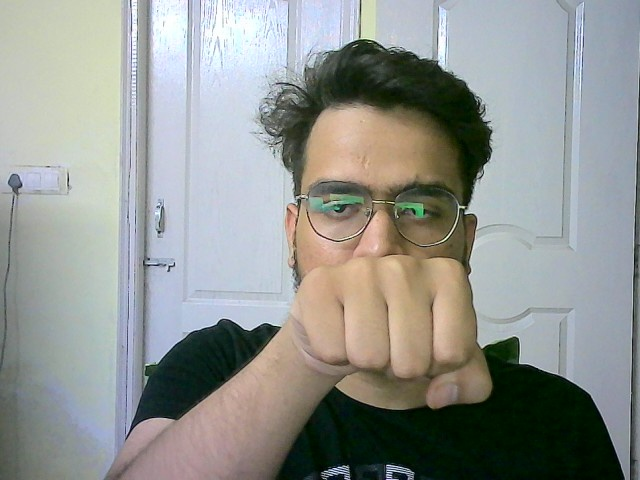Yes: (276, 246, 506, 420)
